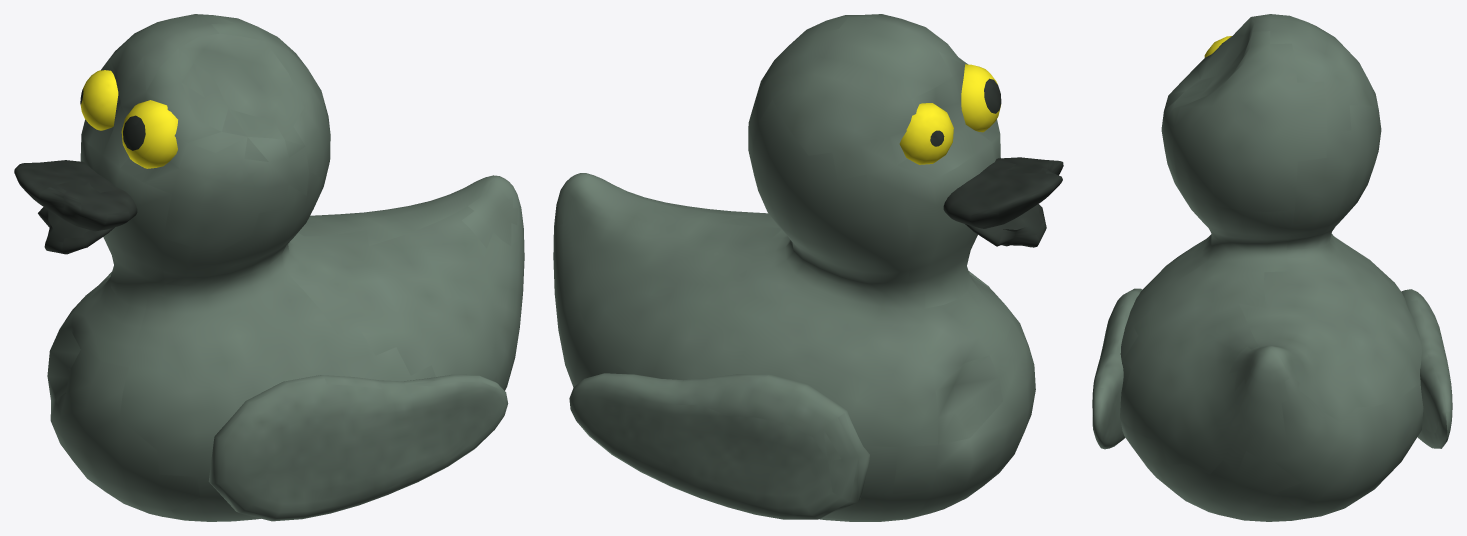
File: zombie-basic-duck.fbx
The picture shows the model from 3 angles, left to right: view 1: azimuth 30°, elevation 25°; view 2: azimuth 150°, elevation 25°; view 3: azimuth 270°, elevation 25°; orthographic projection. The views are drawn at different scales.
Visible parts, largest first — view 1: zombie duck; view 2: zombie duck; view 3: zombie duck.
Boxes of the visible parts, x1,y1,x2,y2 form: zombie duck: [14, 14, 524, 521]; zombie duck: [553, 14, 1063, 521]; zombie duck: [1092, 14, 1452, 521].
Bounding box in the file's own units: 145 × 137 × 105.
